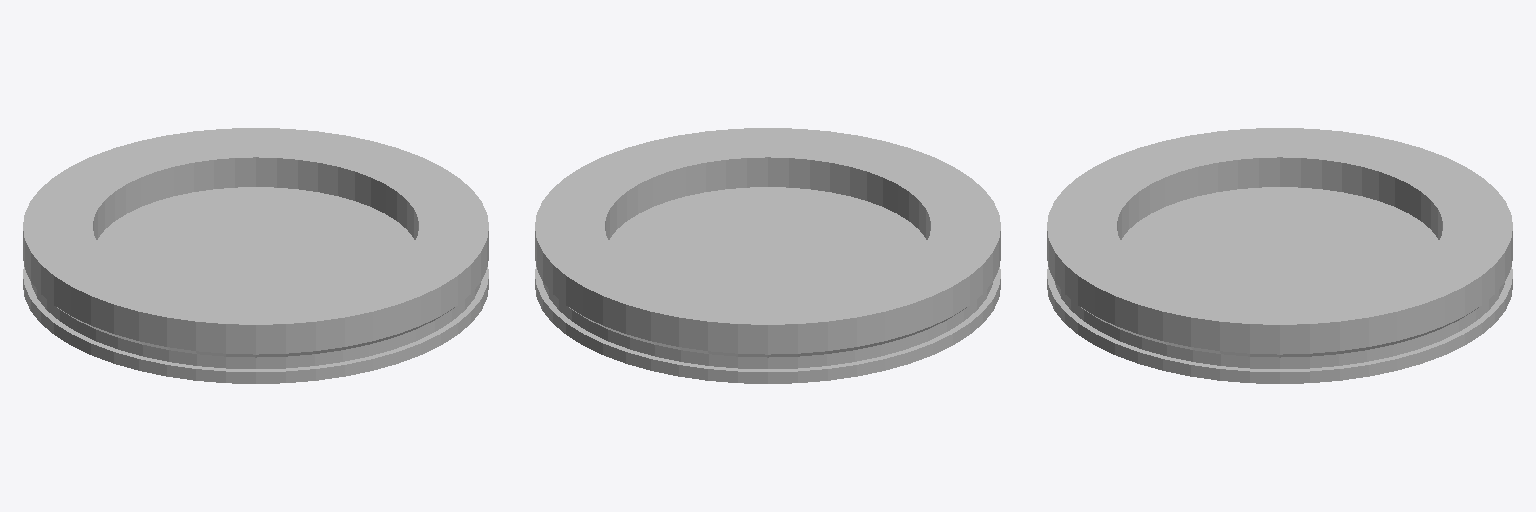
The model's file is fountainRound.obj.
3 views of the same model, side by side, from view 1: azimuth 30°, elevation 25°; view 2: azimuth 150°, elevation 25°; view 3: azimuth 270°, elevation 25° (orthographic).
Visible parts, largest first — view 1: fountainRound; view 2: fountainRound; view 3: fountainRound.
Boxes of the visible parts, x1=… form: fountainRound: x1=23, y1=128, x2=488, y2=383; fountainRound: x1=535, y1=128, x2=1000, y2=383; fountainRound: x1=1047, y1=128, x2=1512, y2=383.
Bounding box in the file's own units: 2 × 0.28 × 2.